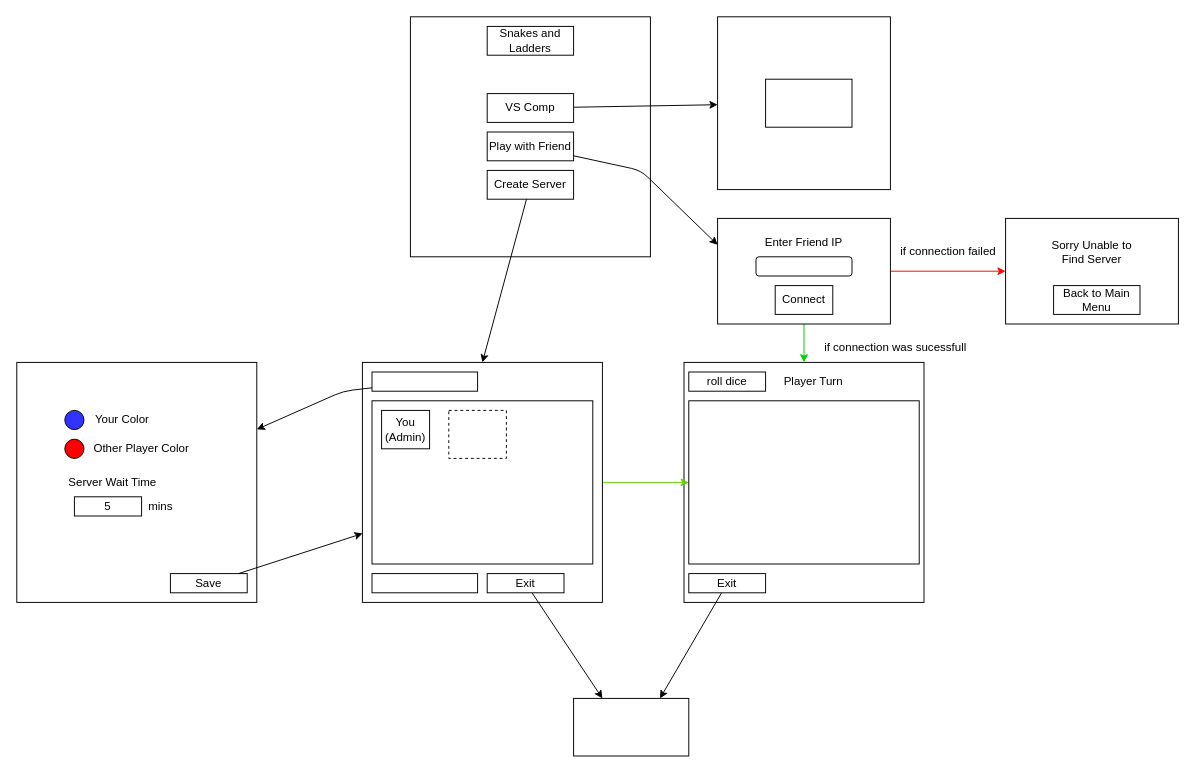
This 1195x773 diagram has some shape labels left out. Each missing label, with the centre of its shape:
"Board" goes at (x=803, y=482).
"Game Options" goes at (x=424, y=381).
"Game Play Aganist Computer" goes at (x=808, y=102).
"go back to main menu" goes at (x=631, y=726).
"Start Game" goes at (x=424, y=583).
"Waitng for someone" goes at (x=477, y=433).
